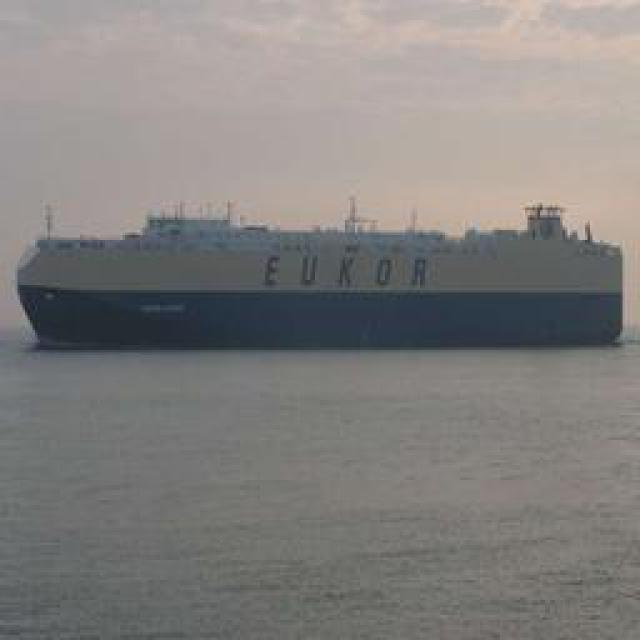Ship: (11, 203, 631, 348)
